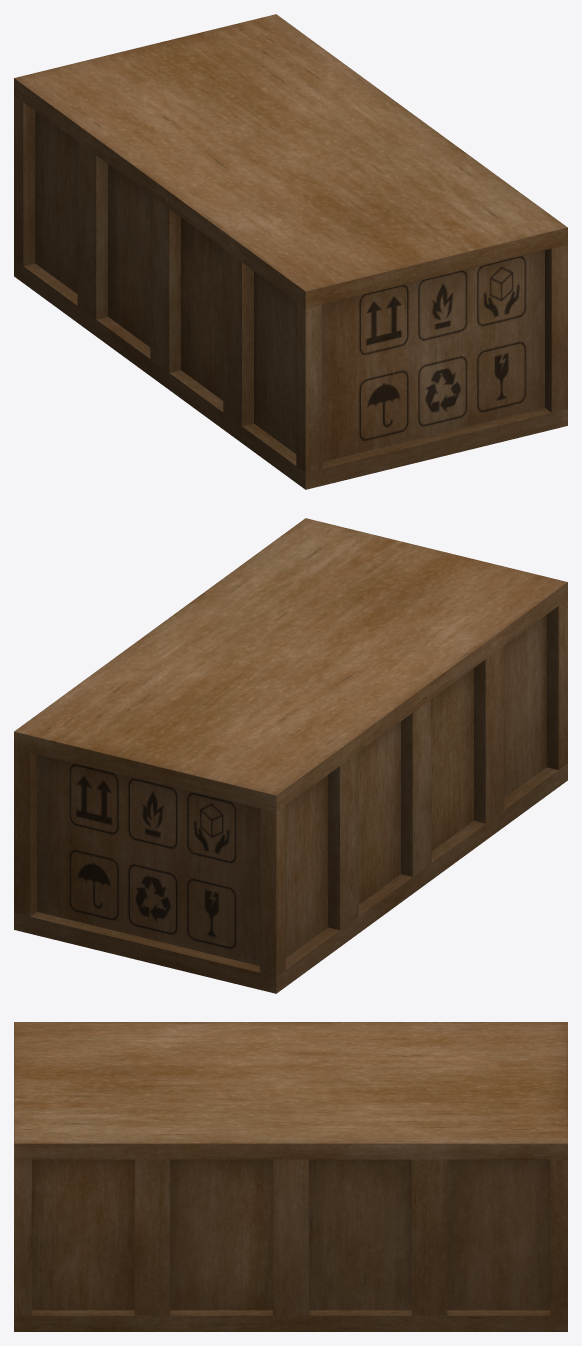
The model's file is Crates_Wooden_02.fbx.
3 renders of one model, top to bottom at view 1: azimuth 30°, elevation 25°; view 2: azimuth 150°, elevation 25°; view 3: azimuth 270°, elevation 25°, orthographic. The views are drawn at different scales.
Visible parts, largest first — view 1: WoodenCrates-2; view 2: WoodenCrates-2; view 3: WoodenCrates-2.
Part boxes in pixels (left/top/right/bottom): WoodenCrates-2: left=14, top=14, right=567, bottom=489; WoodenCrates-2: left=14, top=518, right=567, bottom=993; WoodenCrates-2: left=14, top=1022, right=567, bottom=1331.
Size of the model in its own units: 135 by 97.49 by 260.
